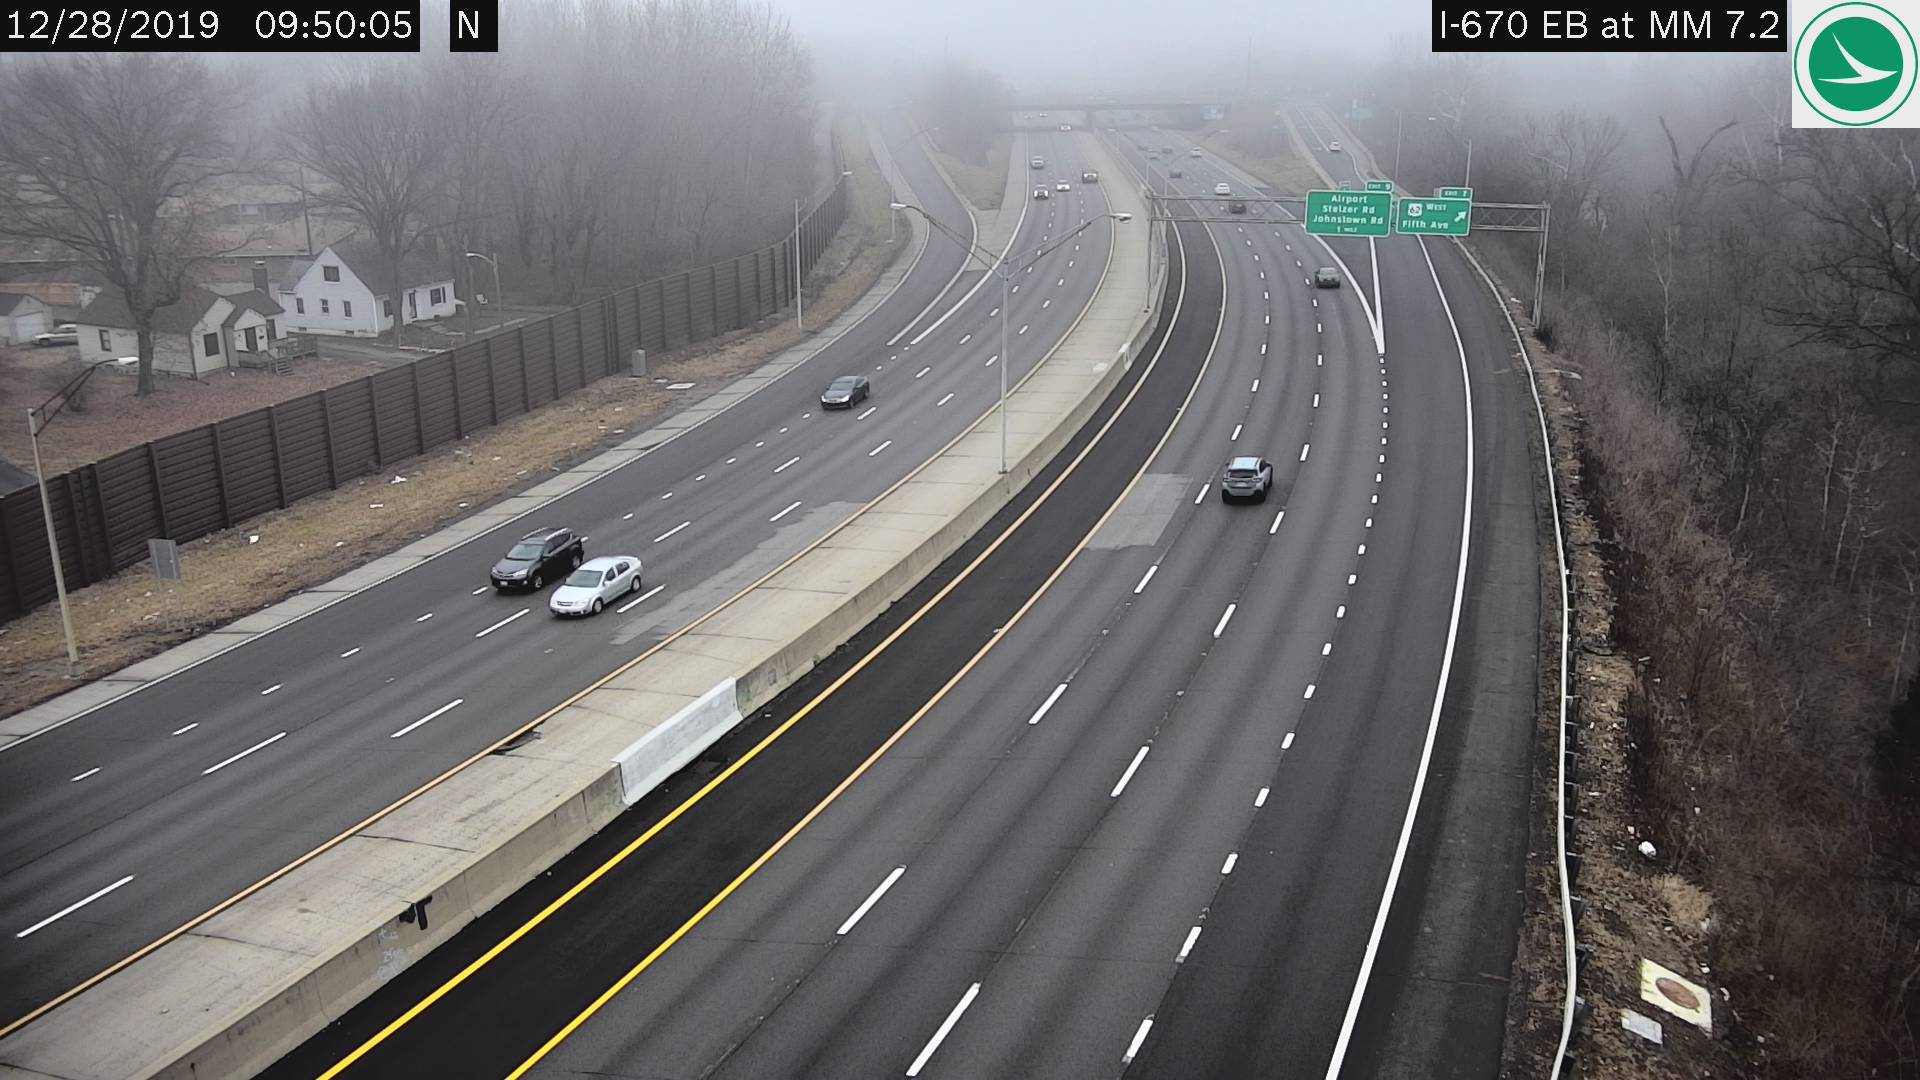car: (491, 527, 585, 588), (550, 556, 642, 616), (1222, 456, 1274, 496), (818, 376, 866, 407), (1313, 264, 1338, 287), (1034, 181, 1046, 199), (1080, 167, 1095, 182), (1029, 156, 1044, 167), (1212, 179, 1226, 191)
